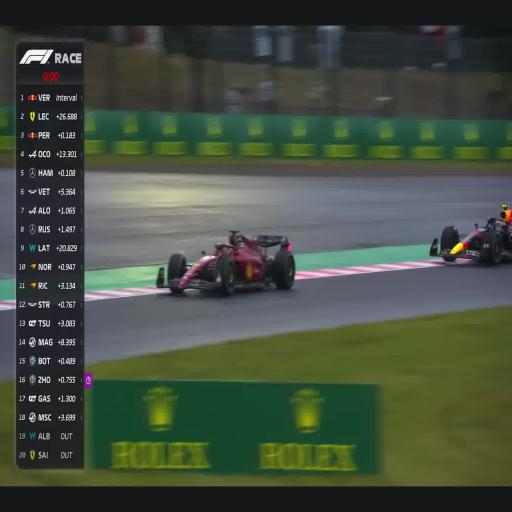f1_car: (157, 230, 295, 294), (430, 205, 512, 265)
